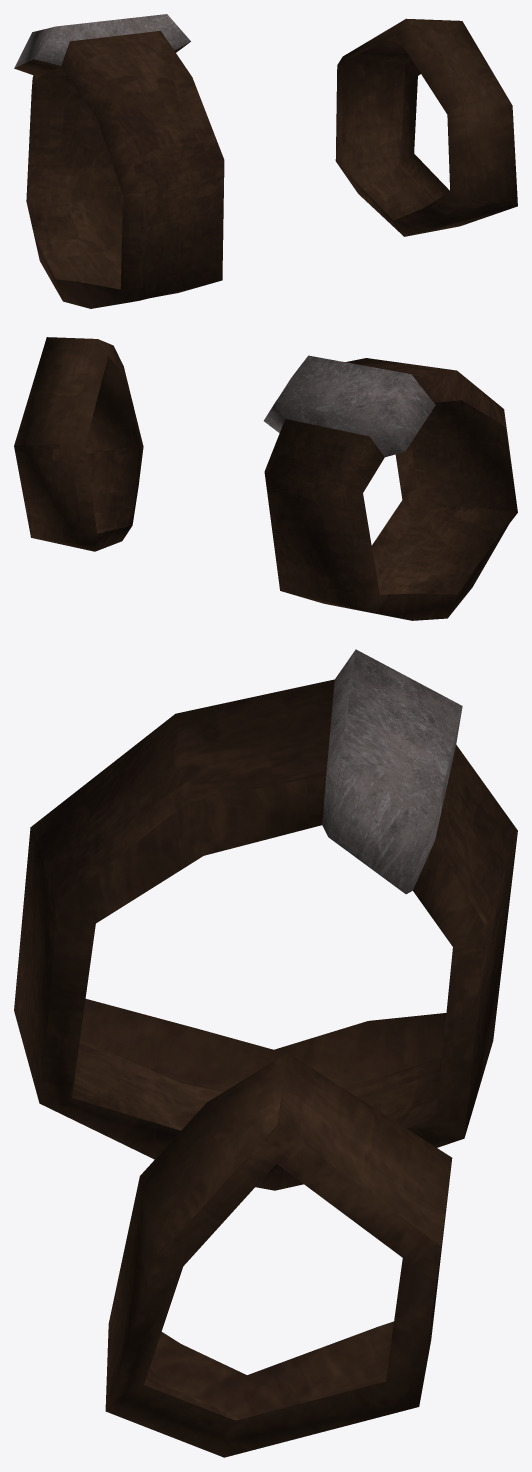
File: Chr_ArmUpperLeft_Female_16_Drop.fbx
The picture shows the model from 3 angles, top to bottom: view 1: azimuth 30°, elevation 25°; view 2: azimuth 150°, elevation 25°; view 3: azimuth 270°, elevation 25°; orthographic projection. The views are drawn at different scales.
Visible parts, largest first — view 1: Chr_ArmUpperLeft_Female_16; view 2: Chr_ArmUpperLeft_Female_16; view 3: Chr_ArmUpperLeft_Female_16.
Boxes of the visible parts, x1=… form: Chr_ArmUpperLeft_Female_16: x1=14, y1=14, x2=517, y2=308; Chr_ArmUpperLeft_Female_16: x1=14, y1=337, x2=517, y2=620; Chr_ArmUpperLeft_Female_16: x1=14, y1=649, x2=517, y2=1457.
Bounding box in the file's own units: 2169 × 1297 × 1220.
